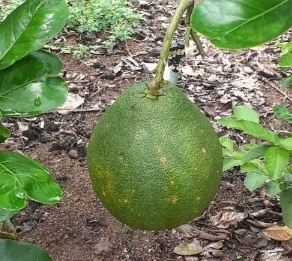Buoi: (86, 80, 227, 234)
